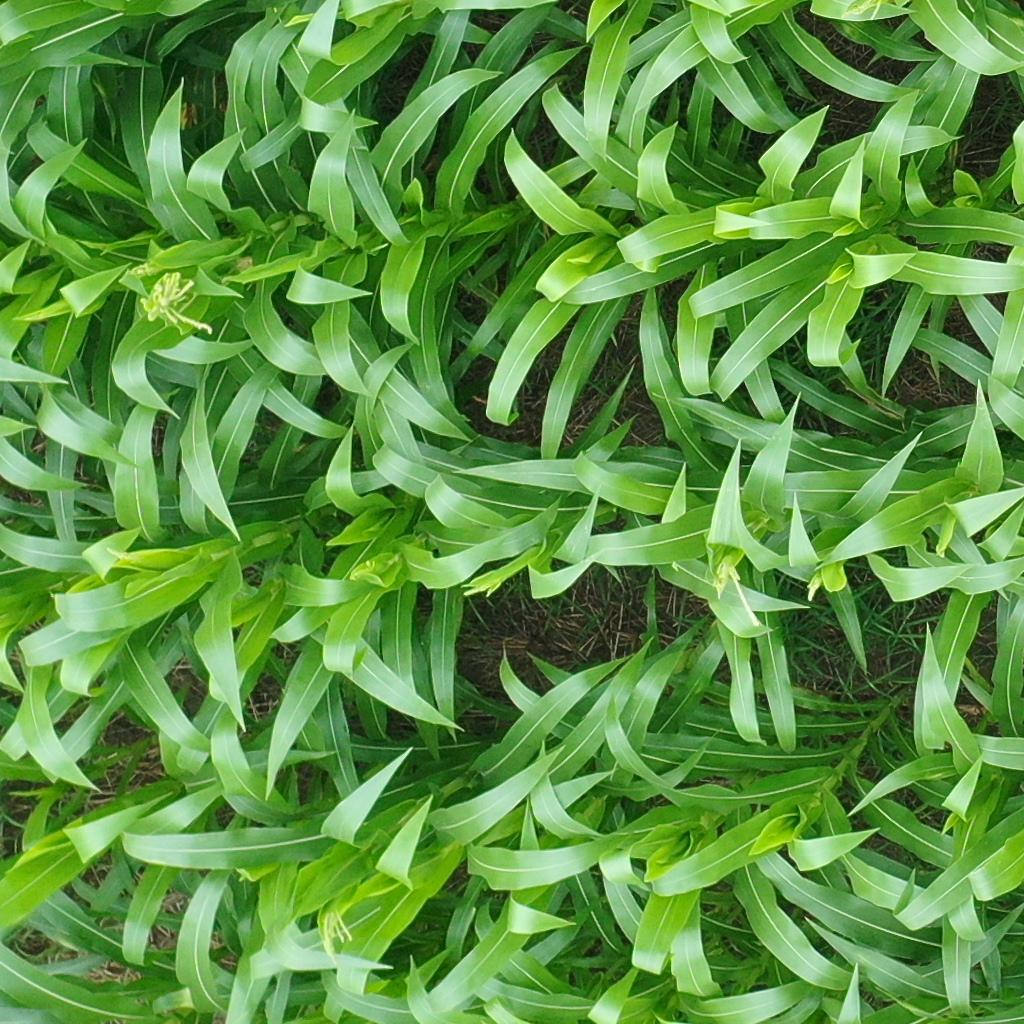Tassel: (130, 266, 214, 345), (710, 554, 762, 628), (316, 903, 358, 957), (462, 564, 506, 602), (832, 1, 892, 23), (805, 571, 825, 601)
